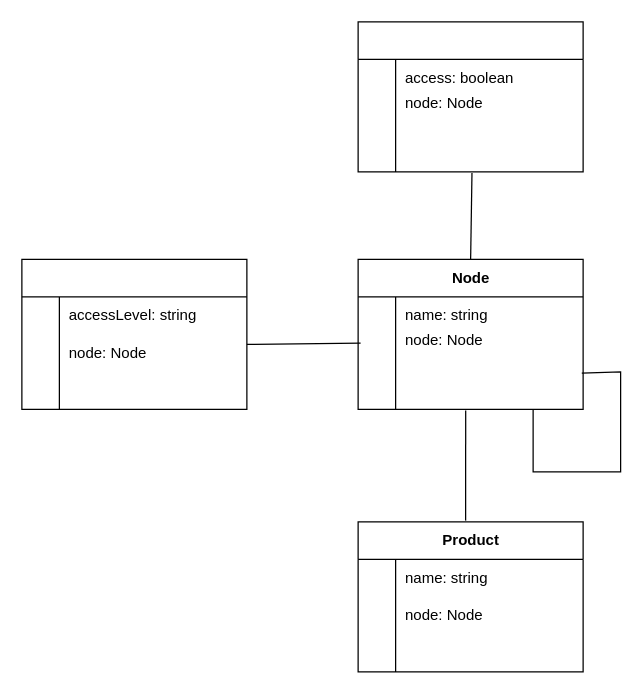
The diagram is 644 pixels wide and 694 high, and some of its shapes have lost their labels. Each missing label, with the box of its shape:
Column: (357, 21, 583, 172)
Role: (21, 258, 247, 409)
